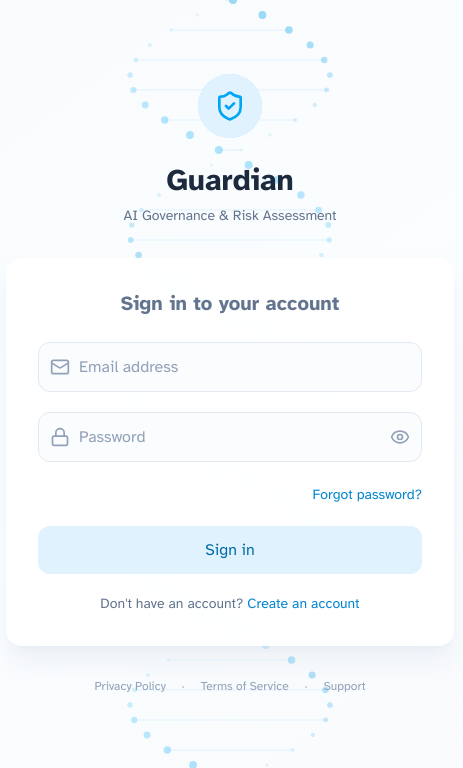
Test case: LoginPage › Form Submission › shows loading state during submission
The image size is (463, 768).
Type "test@example.com" into the field with placeholder "Email address" at (230,367), box 38,342 -> 422,392
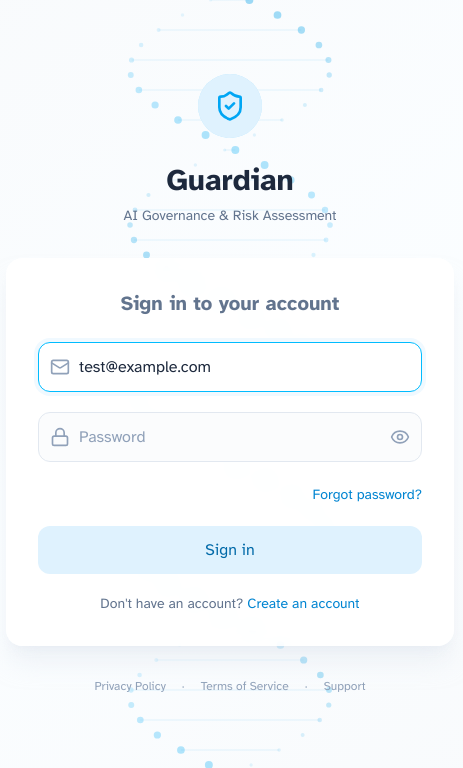
Type "password123" into the password field with placeholder "Password" at (230,437), box 38,412 -> 422,462
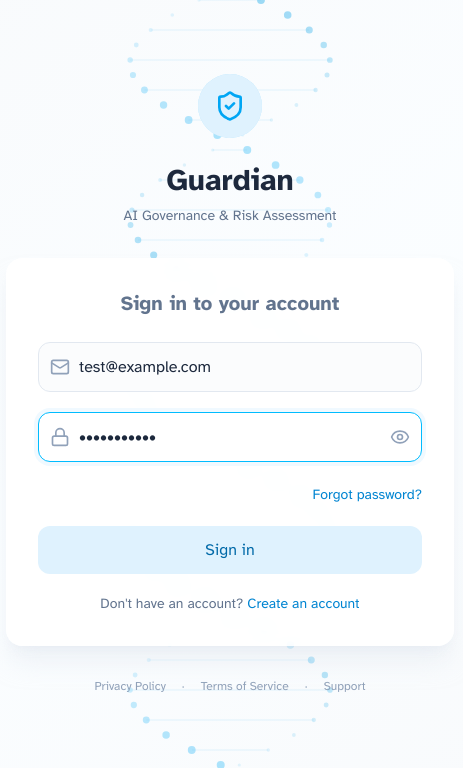
Click the button "Sign in" at (230,550), box 38,526 -> 422,574
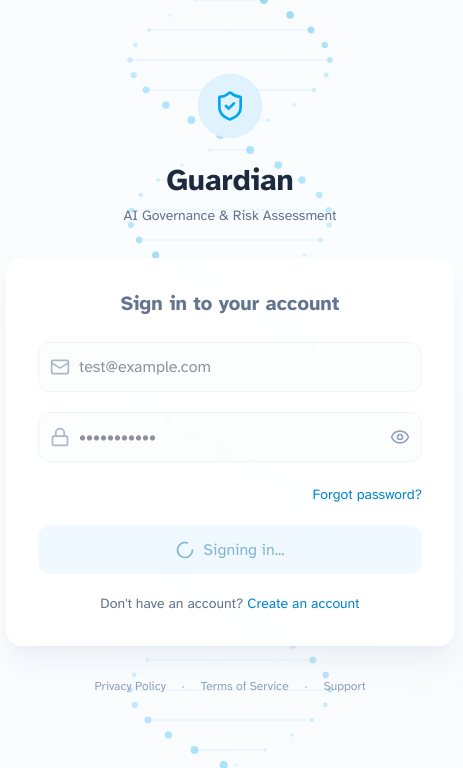
Expected: the text "Signing in..." is shown, 203,538 -> 284,562
